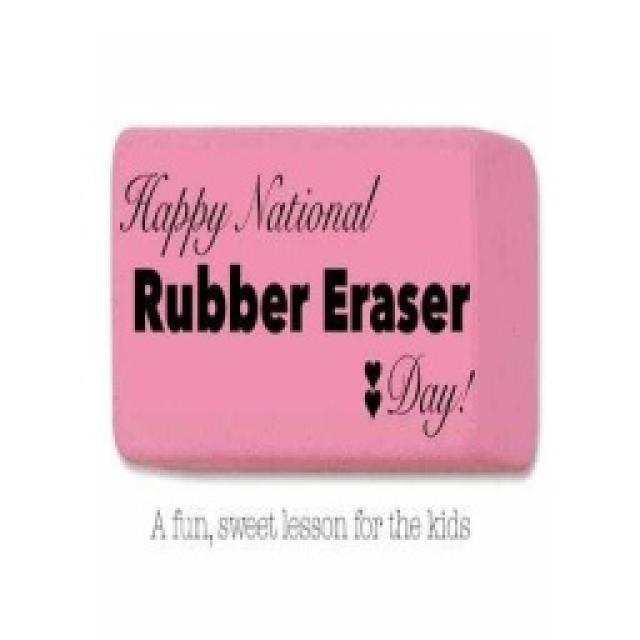Silgi: (110, 124, 540, 473)
